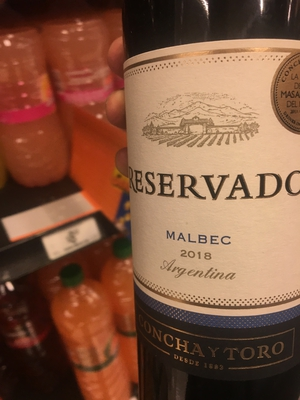reservado malbec: (109, 10, 300, 400)
